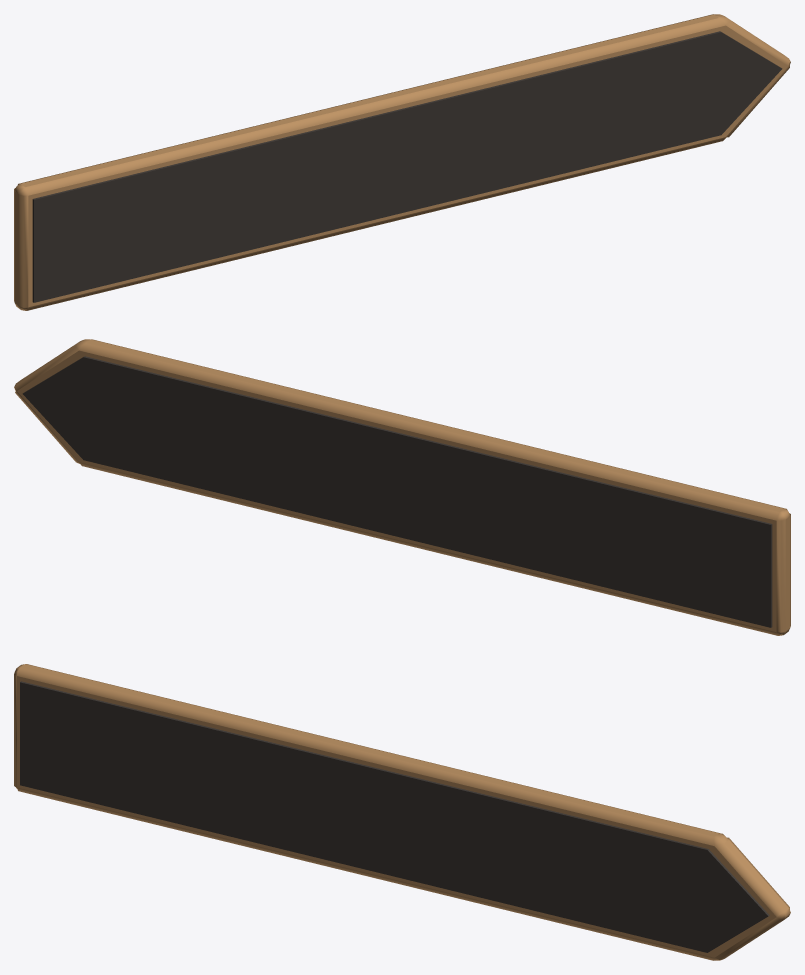
Rendered from sign_arm_long.glb.
The picture shows the model from 3 angles, top to bottom: view 1: azimuth 30°, elevation 25°; view 2: azimuth 150°, elevation 25°; view 3: azimuth 330°, elevation 25°; orthographic projection.
Visible parts, largest first — view 1: body; view 2: body; view 3: body.
Boxes of the visible parts, x1,y1,x2,y2 form: body: (14,14,790,310); body: (14,339,790,635); body: (14,664,790,960).
Bounding box in the file's own units: 4.7 × 0.72 × 0.148.
